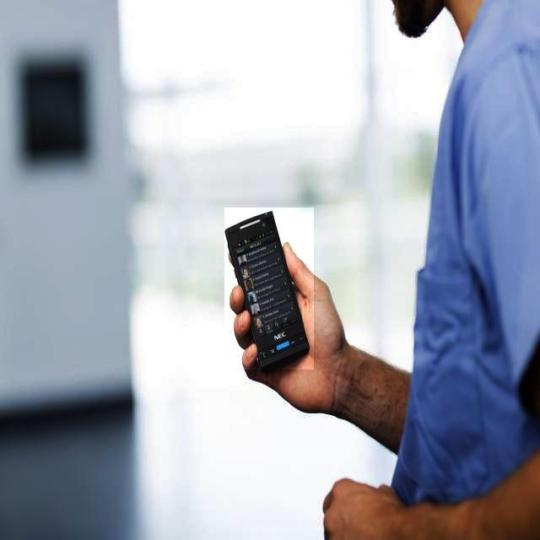phone: (222, 217, 315, 378)
